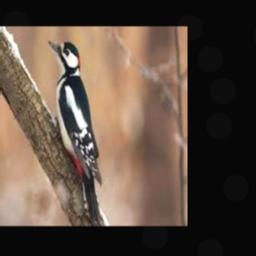Woodpecker: (47, 39, 101, 226)
